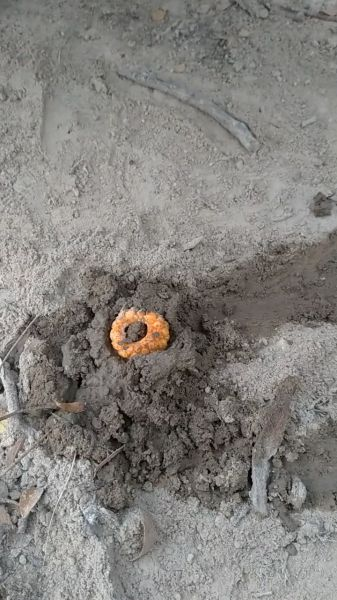eggs: (105, 305, 174, 360)
